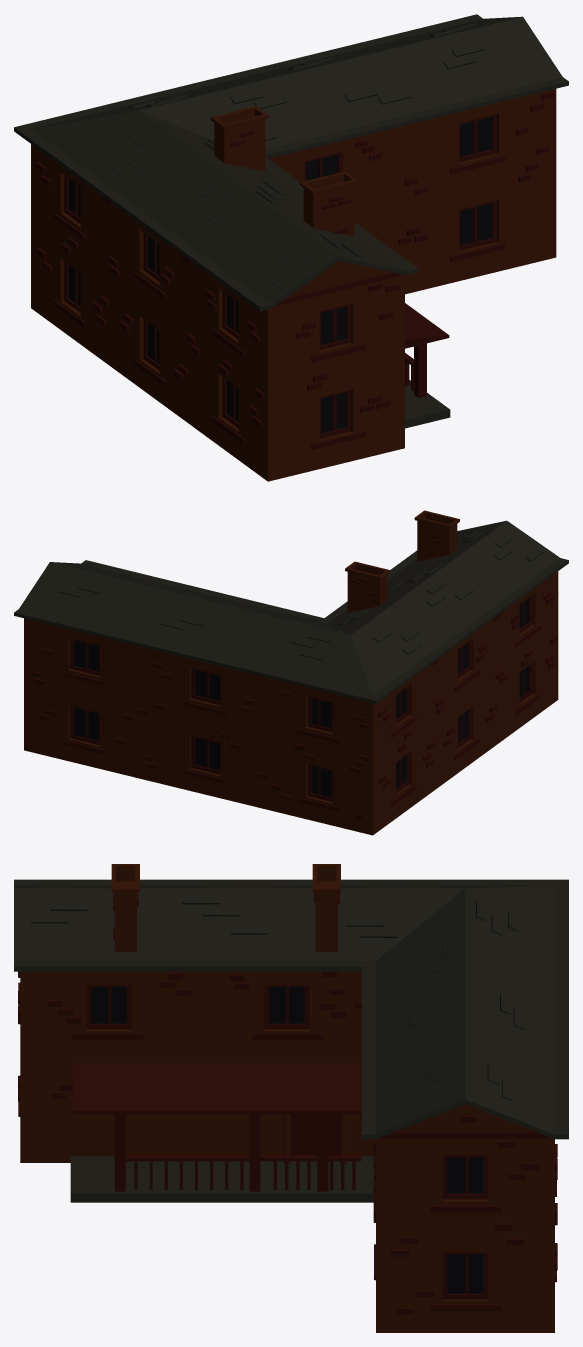
File: house.obj
The picture shows the model from 3 angles, top to bottom: view 1: azimuth 30°, elevation 25°; view 2: azimuth 150°, elevation 25°; view 3: azimuth 270°, elevation 25°; orthographic projection. The views are drawn at different scales.
Visible parts, largest first — view 1: house_Куб; view 2: house_Куб; view 3: house_Куб.
Part boxes in pixels (bbox=[...]): house_Куб: bbox=[14, 14, 568, 481]; house_Куб: bbox=[14, 510, 568, 835]; house_Куб: bbox=[14, 864, 568, 1332].
Bounding box in the file's own units: 13.53 × 6.81 × 12.45.
